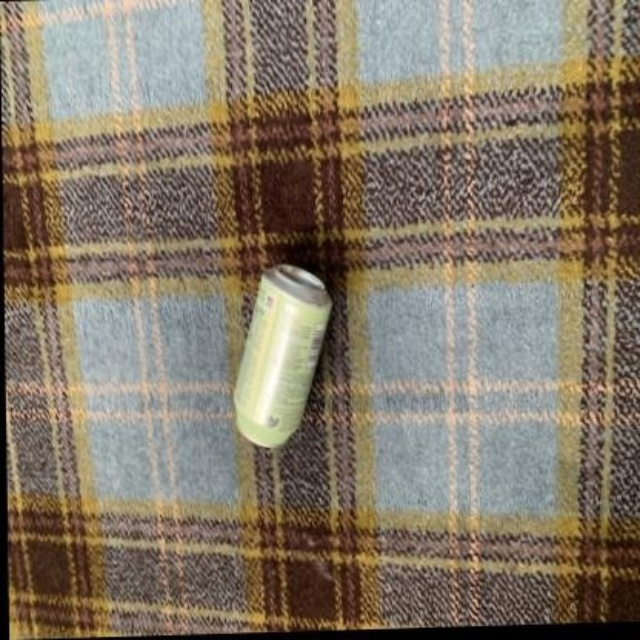trash: (234, 265, 329, 446)
